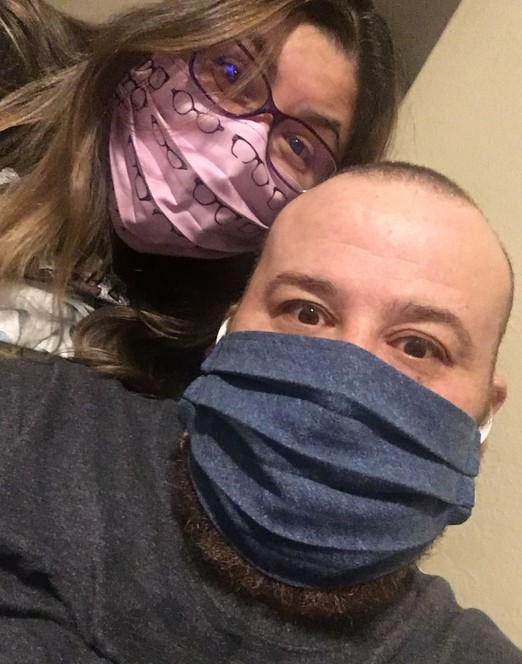face_with_mask: (185, 166, 513, 596), (97, 4, 371, 268)
